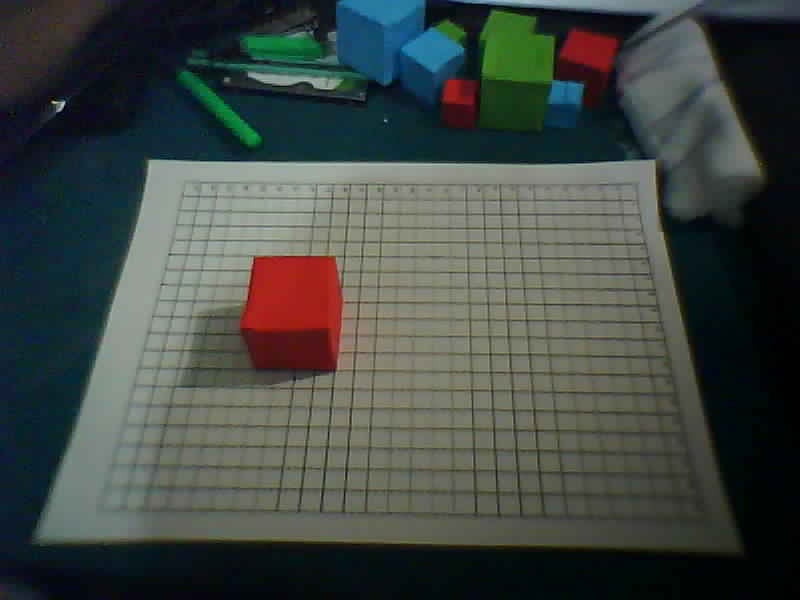red(4x4x4): (240, 247, 349, 377)
